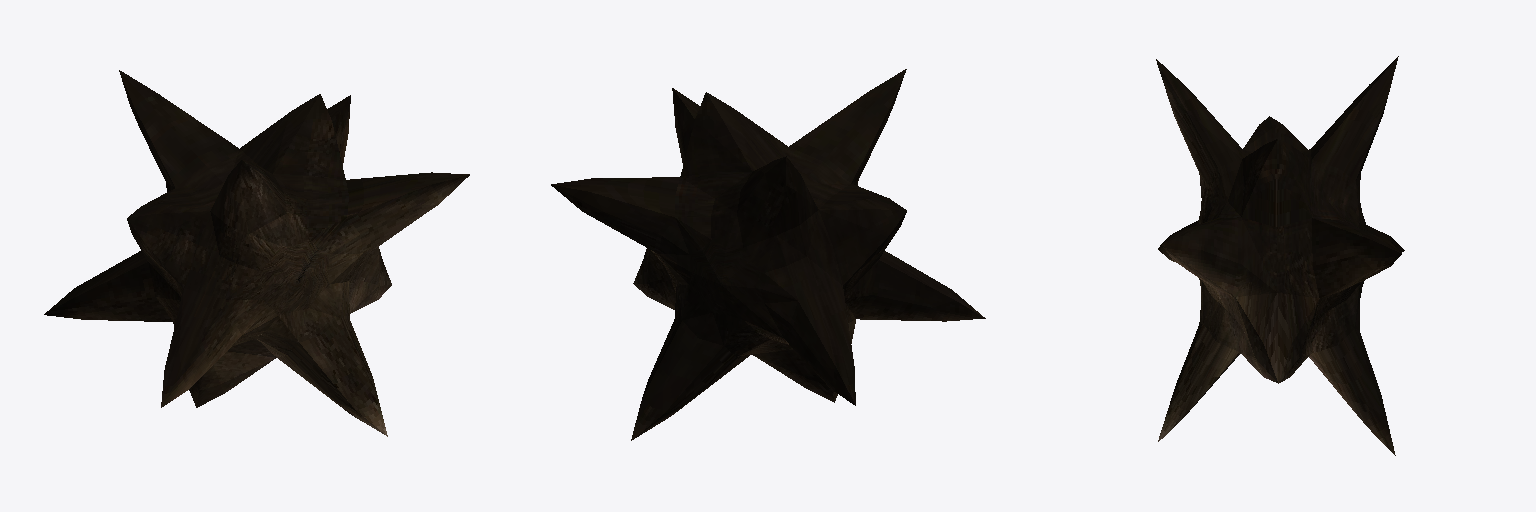
3 renders of one model, left to right at view 1: azimuth 30°, elevation 25°; view 2: azimuth 150°, elevation 25°; view 3: azimuth 270°, elevation 25°, orthographic.
Bounding box in the file's own units: 56.55 × 55.97 × 39.03.
1 materials, 1 textured.